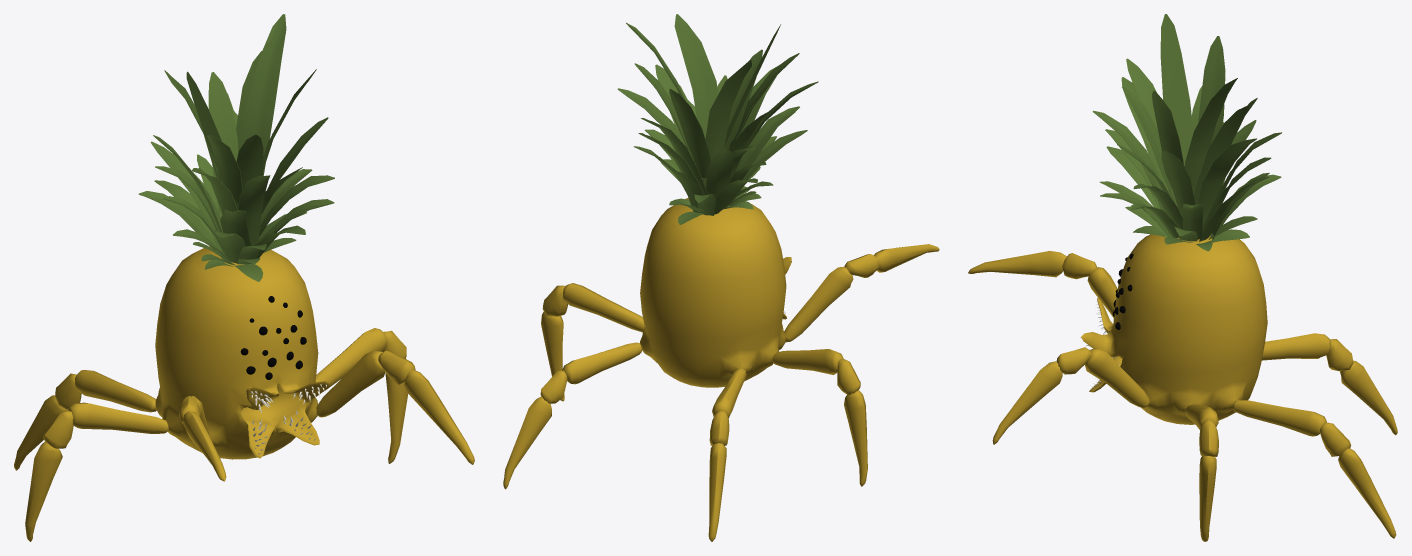
Rendered from PinaPose.fbx.
The picture shows the model from 3 angles, left to right: view 1: azimuth 30°, elevation 25°; view 2: azimuth 150°, elevation 25°; view 3: azimuth 270°, elevation 25°; orthographic projection. The views are drawn at different scales.
Parts seen in each view (by area): view 1: PinaPosed, pCube39, RMiddleArm, LFrontArm, ForeArm1, RBackArm, ForeArm4, LMiddleArm, pCube41, pCube19, ForeArm5, ForeArm2 (+18 smaller); view 2: PinaPosed, pCube2, RFrontArm, pCube40, LMiddleArm, LBackArm, ForeArm, pCube41, ForeArm4, RMiddleArm, ForeArm5, ForeArm2 (+17 smaller); view 3: PinaPosed, pCube3, LBackArm, pCube39, ForeArm3, LFrontArm, ForeArm1, ForeArm, RBackArm, pCube29, ForeArm5, pCube40 (+20 smaller).
Boxes of the visible parts, x1,y1,x2,y2 form: PinaPosed: [155, 246, 330, 459]; pCube39: [241, 14, 286, 175]; RMiddleArm: [69, 402, 168, 433]; LFrontArm: [316, 350, 385, 417]; ForeArm1: [404, 369, 474, 464]; RBackArm: [75, 370, 156, 412]; ForeArm4: [25, 441, 62, 541]; LMiddleArm: [315, 328, 386, 391]; pCube41: [208, 72, 238, 212]; pCube19: [238, 175, 270, 245]; ForeArm5: [14, 395, 68, 470]; ForeArm2: [385, 358, 407, 463]; PinaPosed: [640, 198, 791, 387]; pCube2: [674, 14, 718, 138]; RFrontArm: [784, 266, 853, 342]; pCube40: [702, 60, 751, 187]; LMiddleArm: [563, 283, 644, 332]; LBackArm: [562, 342, 642, 384]; ForeArm: [503, 396, 551, 489]; pCube41: [669, 89, 710, 178]; ForeArm4: [844, 390, 867, 486]; RMiddleArm: [772, 349, 843, 374]; ForeArm5: [708, 443, 726, 541]; ForeArm2: [541, 311, 564, 401]; PinaPosed: [1081, 234, 1267, 424]; pCube3: [1160, 14, 1193, 226]; LBackArm: [1232, 400, 1326, 436]; pCube39: [1181, 78, 1237, 216]; ForeArm3: [968, 251, 1066, 277]; LFrontArm: [1085, 348, 1149, 407]; ForeArm1: [992, 361, 1062, 444]; ForeArm: [1338, 448, 1396, 538]; RBackArm: [1261, 333, 1331, 360]; pCube29: [1198, 138, 1256, 222]; ForeArm5: [1339, 360, 1397, 435]; pCube40: [1198, 36, 1225, 145].
Size of the model in its own units: 3.33 by 4.04 by 3.56.
